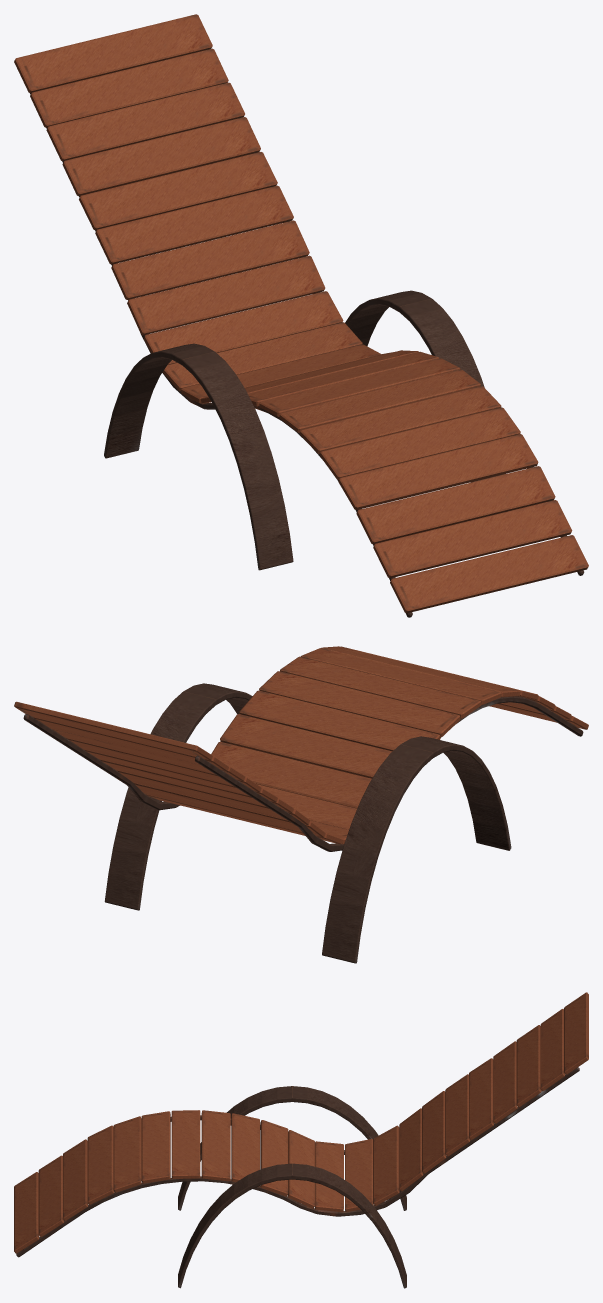
The model's file is CuteChair.fbx.
The picture shows the model from 3 angles, top to bottom: view 1: azimuth 30°, elevation 25°; view 2: azimuth 150°, elevation 25°; view 3: azimuth 270°, elevation 25°; orthographic projection. The views are drawn at different scales.
Parts seen in each view (by area): view 1: SunChair; view 2: SunChair; view 3: SunChair.
Boxes of the visible parts, <box> form: SunChair: <box>14,14,588,617</box>; SunChair: <box>14,646,588,963</box>; SunChair: <box>14,992,588,1288</box>.
Bounding box in the file's own units: 1.61 × 1.85 × 4.38.
1 material, 1 textured.
